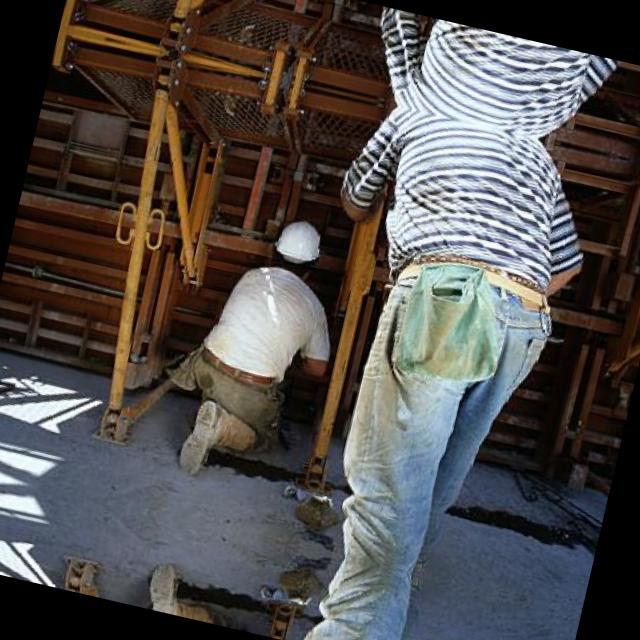helmet: (266, 211, 328, 285)
